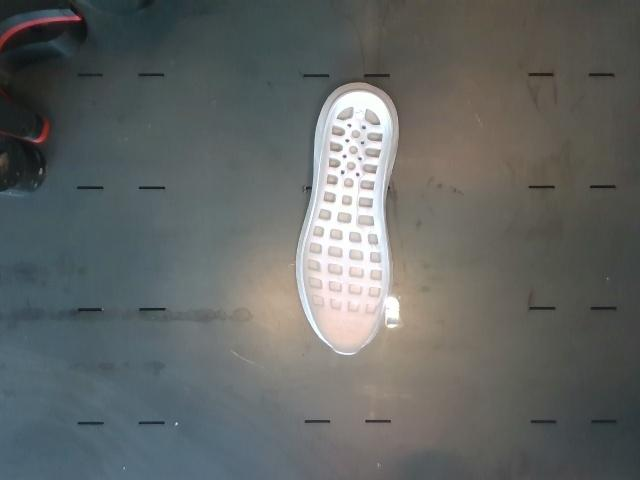shoes: (302, 91, 392, 355)
